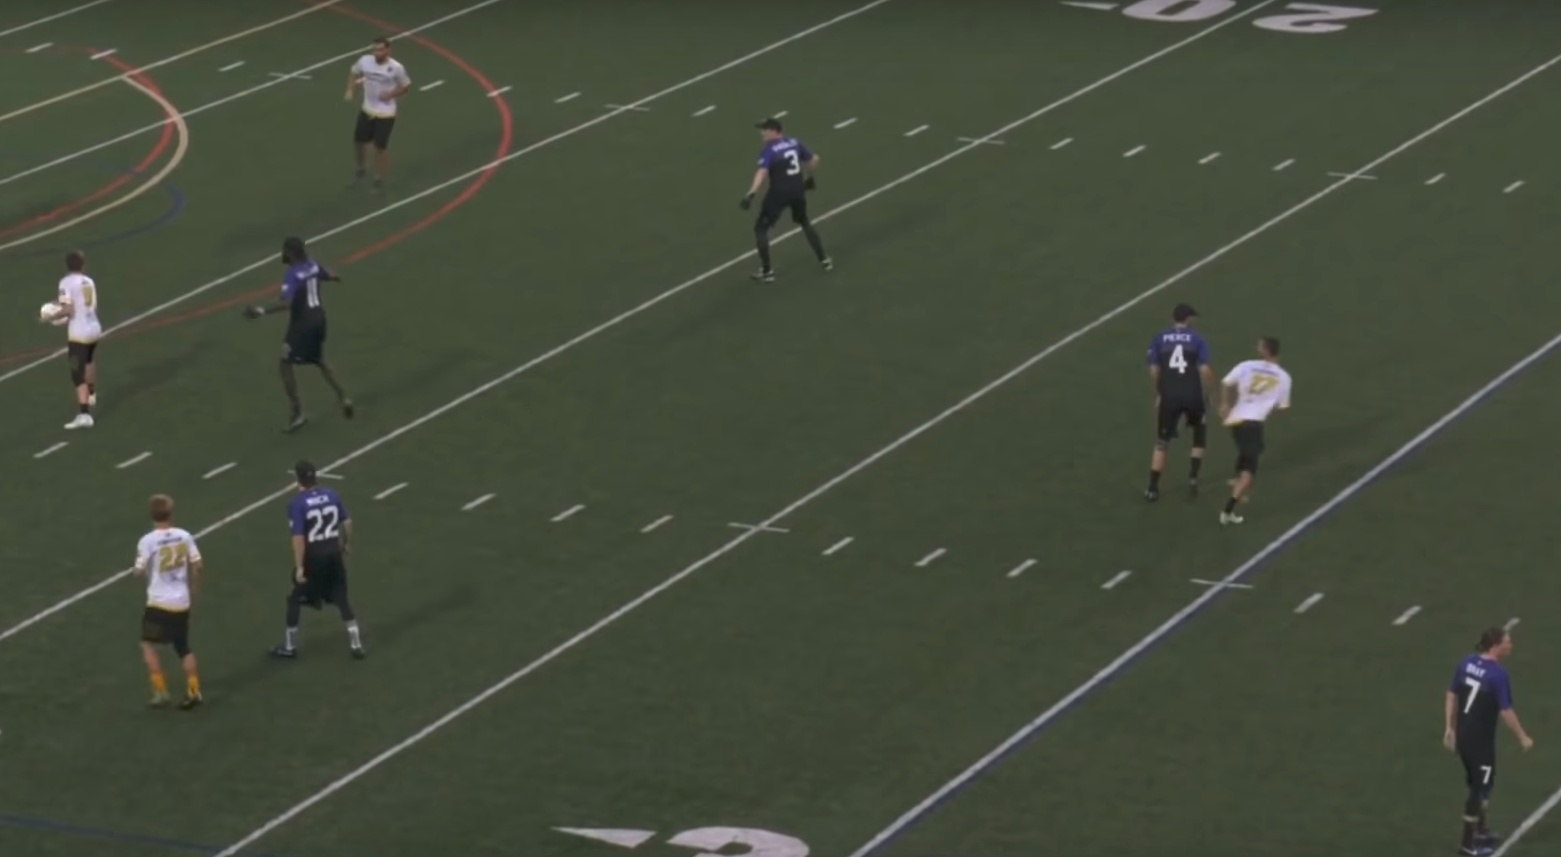frisbee: (39, 301, 69, 327)
